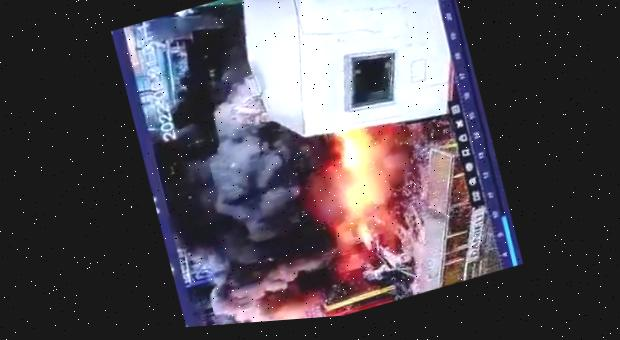fire: (212, 39, 457, 306)
